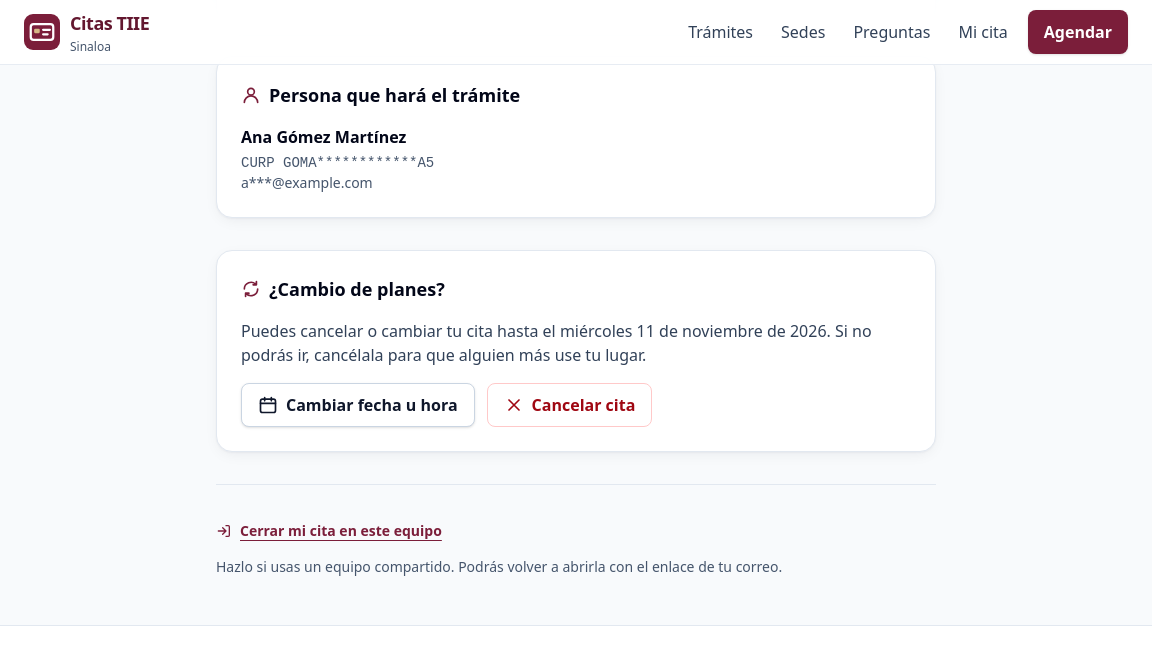
Test: Mi cita › cancela tras confirmar en el diálogo y envía el motivo
The image size is (1152, 666).
(page scrolled)
Step 1. Click the button "Cancelar cita" → (569, 404), box x1=487 y1=382 x2=652 y2=426
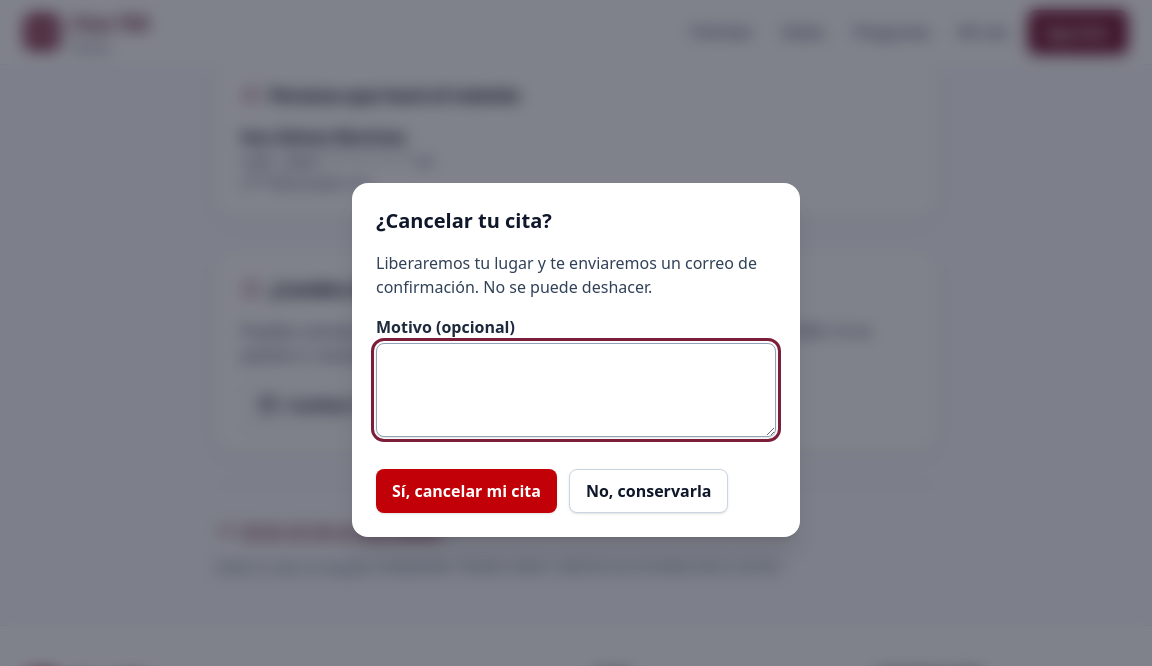
Expected: the dialog "¿Cancelar tu cita?" is shown, x1=352 y1=183 x2=800 y2=537
Step 2. Type "Ya no puedo ir" into the text box labelled "Motivo (opcional)" → (576, 390), box x1=376 y1=343 x2=776 y2=437
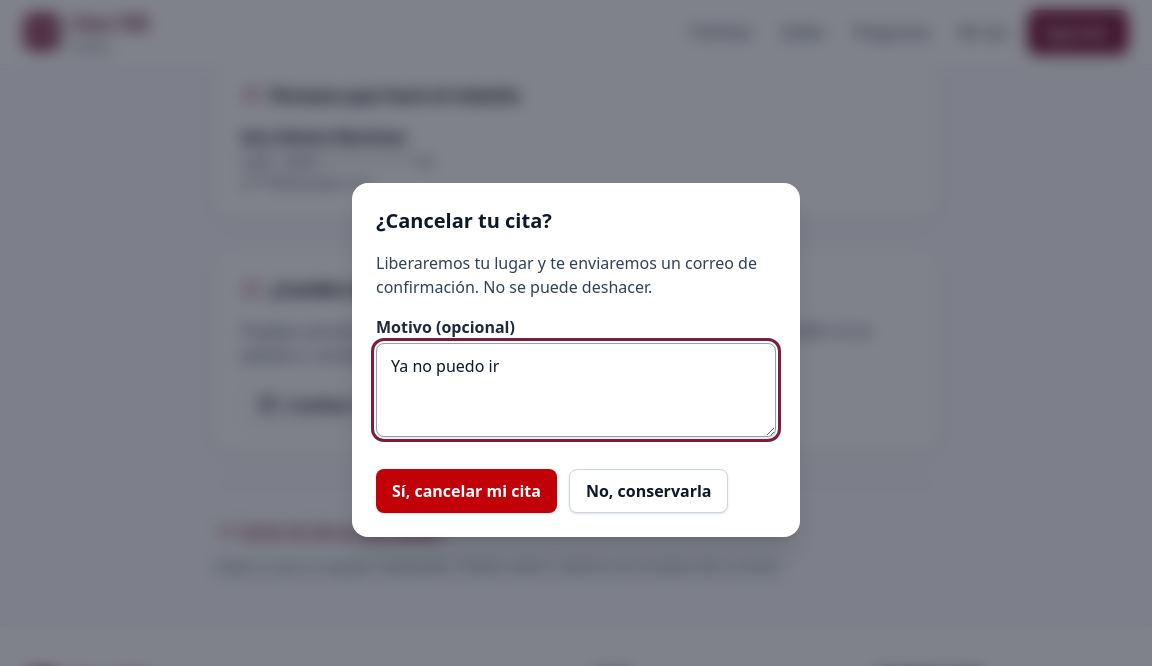
Step 3. Click the button "Sí, cancelar mi cita" → (466, 491), box x1=376 y1=469 x2=557 y2=513
(page scrolled)
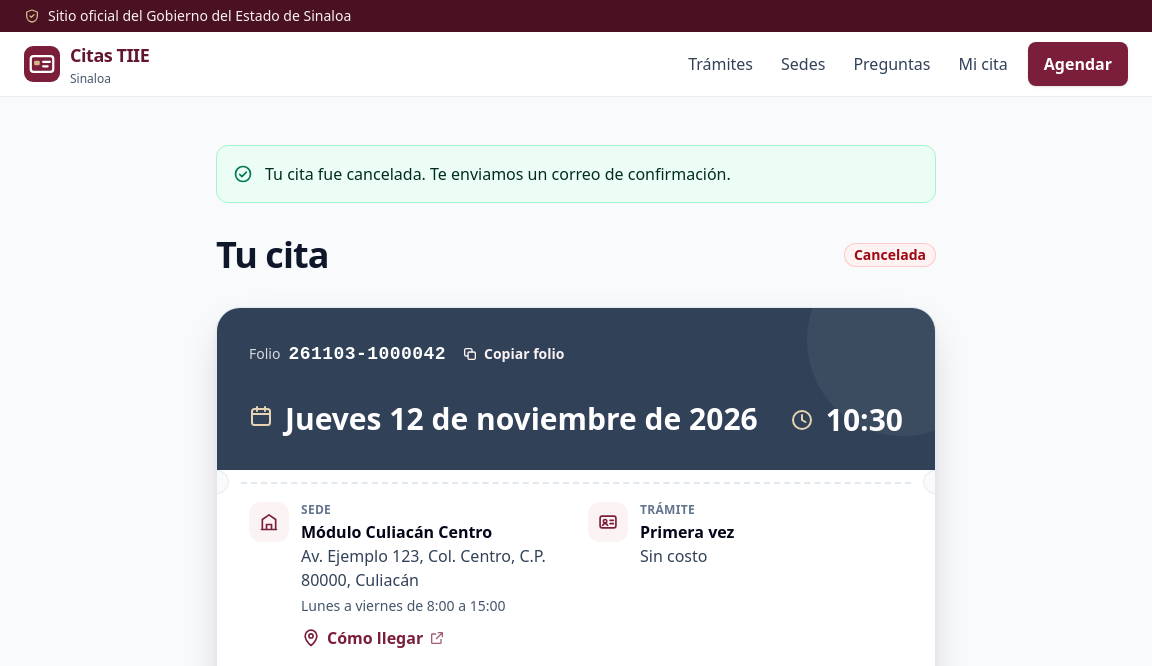
Expected: the text "Tu cita fue cancelada. Te enviamos un correo de confirmación." is shown, x1=265 y1=163 x2=731 y2=185
Expected: the dialog is gone
Expected: the text "Cancelada" is shown, x1=844 y1=243 x2=936 y2=267
